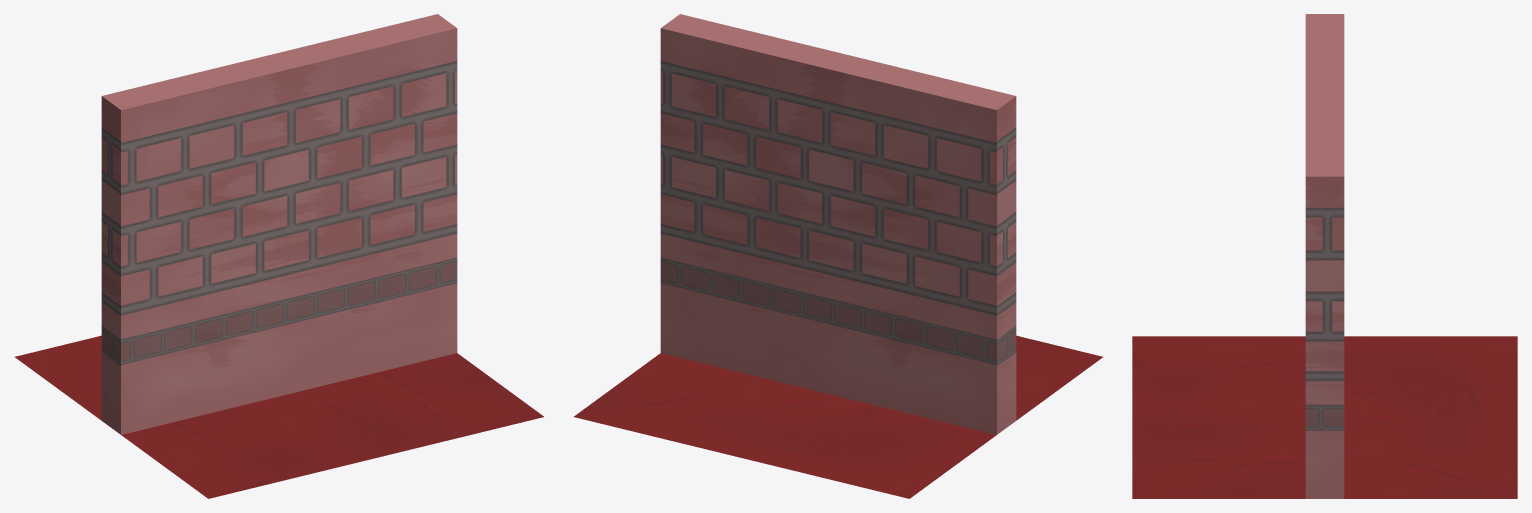
File: WallStraight.fbx
The picture shows the model from 3 angles, left to right: view 1: azimuth 30°, elevation 25°; view 2: azimuth 150°, elevation 25°; view 3: azimuth 270°, elevation 25°; orthographic projection.
Visible parts, largest first — view 1: Wall; view 2: Wall; view 3: Wall.
Boxes of the visible parts, bbox=[...] form: Wall: bbox=[15, 14, 543, 498]; Wall: bbox=[574, 14, 1102, 498]; Wall: bbox=[1132, 14, 1517, 498].
Size of the model in its own units: 297 by 275 by 297.
